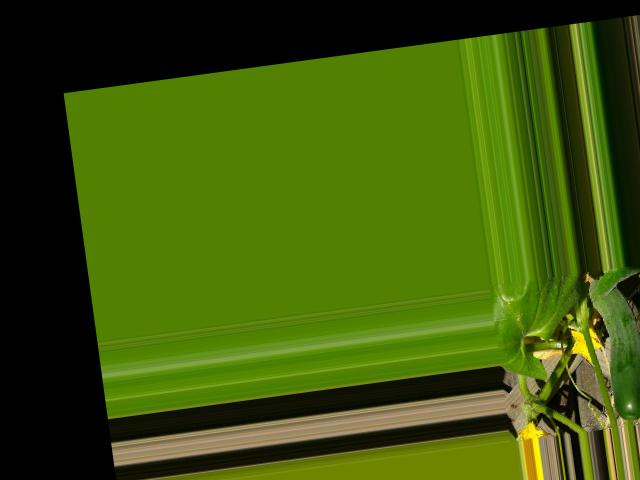cucumber: (586, 266, 640, 421)
